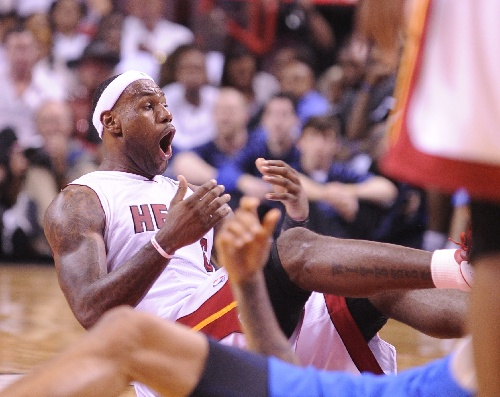10+: (1, 1, 500, 397)
down: (33, 63, 479, 352), (1, 302, 500, 397)
